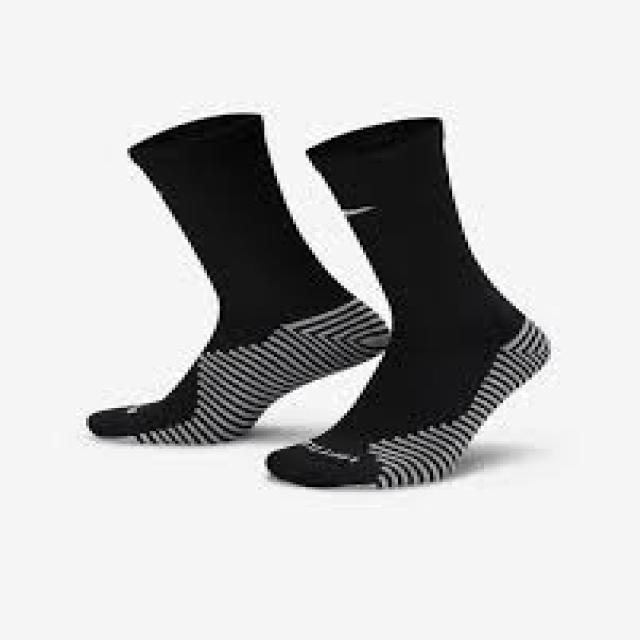sock: (264, 115, 551, 487), (83, 110, 388, 446)
